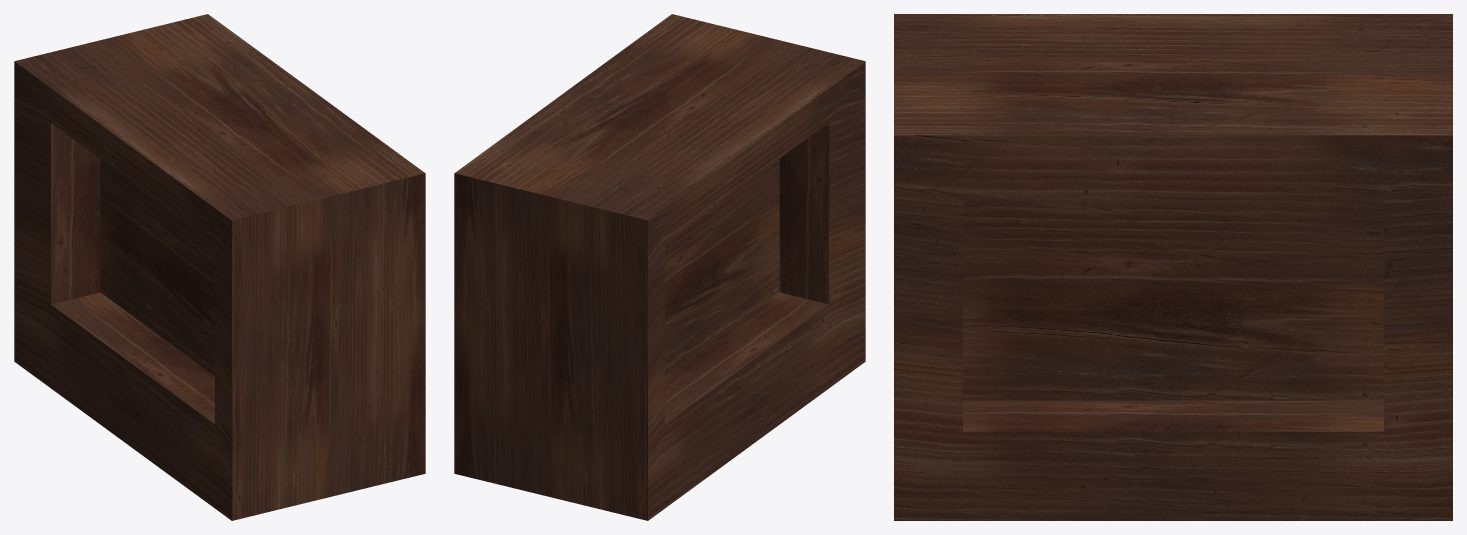
File: SM_M_Handrail_8.fbx
3 views of the same model, side by side, from view 1: azimuth 30°, elevation 25°; view 2: azimuth 150°, elevation 25°; view 3: azimuth 270°, elevation 25° (orthographic). The views are drawn at different scales.
Visible parts, largest first — view 1: SM_M_Handrail_8; view 2: SM_M_Handrail_8; view 3: SM_M_Handrail_8.
Part boxes in pixels (bbox=[...]): SM_M_Handrail_8: bbox=[14, 14, 425, 520]; SM_M_Handrail_8: bbox=[454, 14, 865, 520]; SM_M_Handrail_8: bbox=[894, 14, 1452, 520].
Bounding box in the file's own units: 21.94 × 40.66 × 30.97.
1 material, 1 textured.
